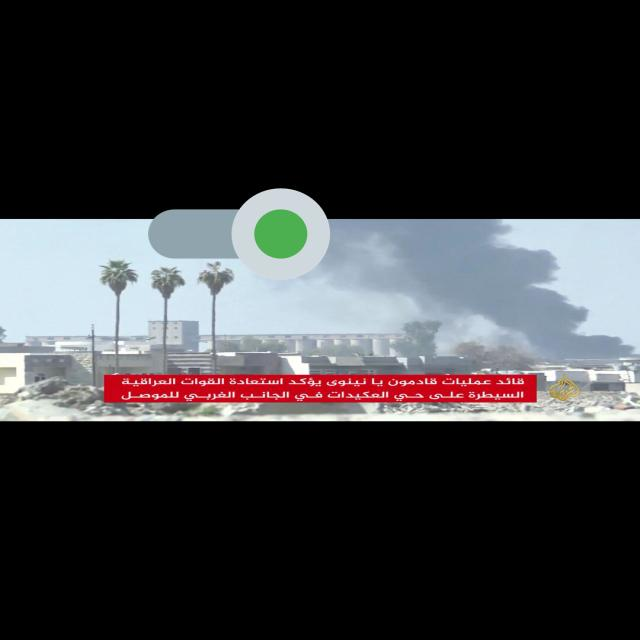social proof: (148, 150, 330, 318)
